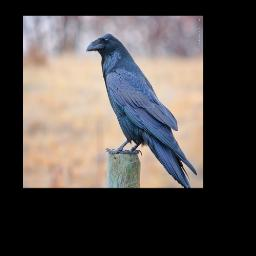Crow: (85, 32, 198, 188)
